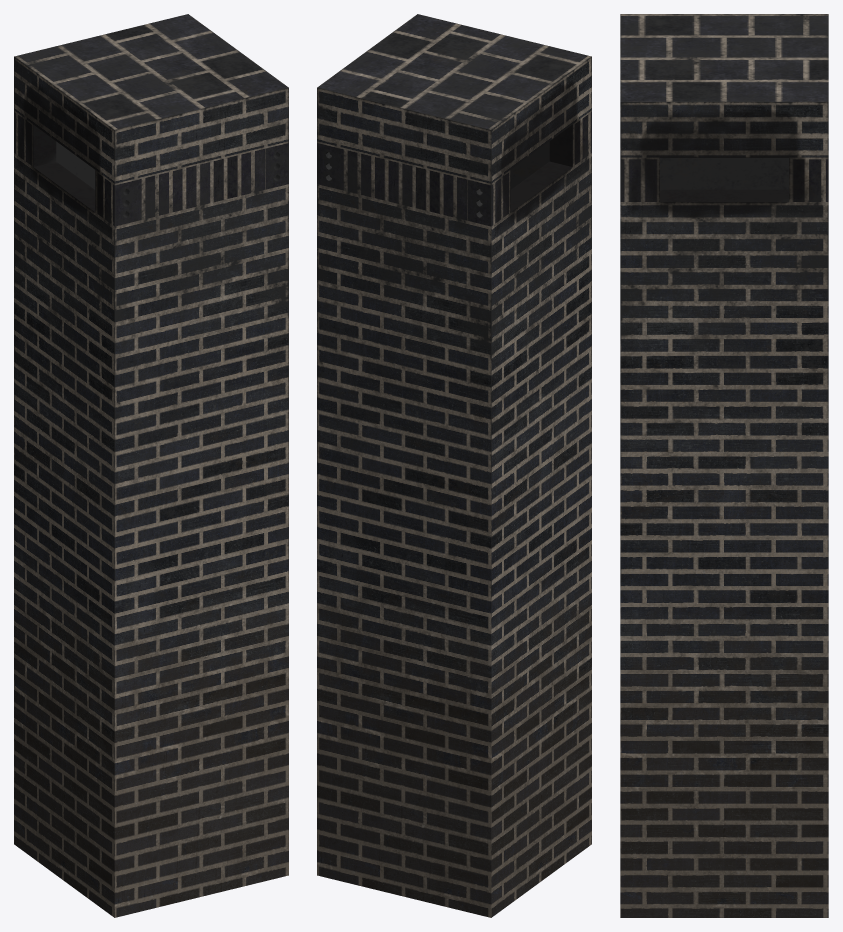
The model's file is SM_Chimney.fbx.
The picture shows the model from 3 angles, left to right: view 1: azimuth 30°, elevation 25°; view 2: azimuth 150°, elevation 25°; view 3: azimuth 270°, elevation 25°; orthographic projection. The views are drawn at different scales.
Visible parts, largest first — view 1: SM_Chimney; view 2: SM_Chimney; view 3: SM_Chimney.
Part boxes in pixels (x1,y1,x2,y2): SM_Chimney: (14, 14, 288, 917); SM_Chimney: (317, 14, 591, 917); SM_Chimney: (620, 14, 828, 917).
Bounding box in the file's own units: 81 × 81 × 350.
Materials: 1 (1 with a texture image).
